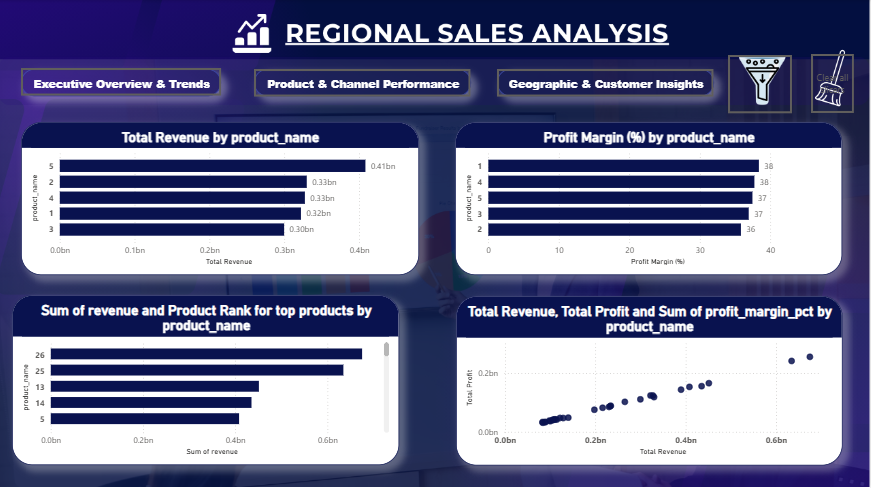

What the dashboard file says about the page in this screenshot:
{"tool":"powerbi","page":{"name":"Product & Chaneel Performance","canvas":[1280,720],"ordinal":1},"visuals":[{"type":"textbox","title":"Executive Overview & Trends","box":[33.8,102.9,293.9,39.7],"z":0},{"type":"textbox","title":"Product &  Channel Performance","box":[376.2,102.9,318.9,39.7],"z":1000},{"type":"textbox","title":"Geographic & Customer Insights","box":[733.2,102.9,318.9,39.7],"z":2000},{"type":"actionButton","box":[34.5,102,294.1,40.5],"z":3000},{"type":"actionButton","box":[376.6,103.5,318.1,40.5],"z":4000},{"type":"actionButton","box":[733.8,103.5,318.1,40.5],"z":5000},{"type":"clusteredBarChart","fields":{"Y":["Customer Measures.Total Revenue"],"Category":["regional_sales_data_clean.product_name"]},"box":[33.6,181.4,584.6,225.1],"z":6000},{"type":"scatterChart","fields":{"X":["Customer Measures.Total Revenue"],"Y":["Customer Measures.Total Profit"],"Category":["regional_sales_data_clean.product_name"]},"box":[673.6,436.7,567.8,248.6],"z":7000},{"type":"barChart","fields":{"Category":["regional_sales_data_clean.product_name"],"Y":["Customer Measures.Profit Margin (%)"]},"box":[672.2,181.2,568.9,225.2],"z":8000},{"type":"clusteredBarChart","fields":{"Category":["regional_sales_data_clean.product_name"],"Y":["Sum(regional_sales_data_clean.revenue)"]},"box":[20.2,435.1,569.4,250.3],"z":9000},{"type":"actionButton","box":[1073.4,82.3,94.1,85.7],"z":9001},{"type":"actionButton","box":[1194.6,80.8,63.2,86.7],"z":9002}]}

Visuals, with their boxes in screenshot pixels (x1, y1, x2, y2), scaled from the page's 1280x720 canvas onto the 871x488 screenshot:
"Executive Overview & Trends" textbox: (23, 70, 223, 97)
"Product &  Channel Performance" textbox: (256, 70, 473, 97)
"Geographic & Customer Insights" textbox: (499, 70, 716, 97)
actionButton: (23, 69, 224, 97)
actionButton: (256, 70, 473, 98)
actionButton: (499, 70, 716, 98)
clusteredBarChart - Customer Measures.Total Revenue x regional_sales_data_clean.product_name: (23, 123, 421, 276)
scatterChart - Customer Measures.Total Revenue x Customer Measures.Total Profit: (458, 296, 845, 464)
barChart - regional_sales_data_clean.product_name x Customer Measures.Profit Margin (%): (457, 123, 845, 275)
clusteredBarChart - regional_sales_data_clean.product_name x Sum(regional_sales_data_clean.revenue): (14, 295, 401, 465)
actionButton: (730, 56, 794, 114)
actionButton: (813, 55, 856, 114)
